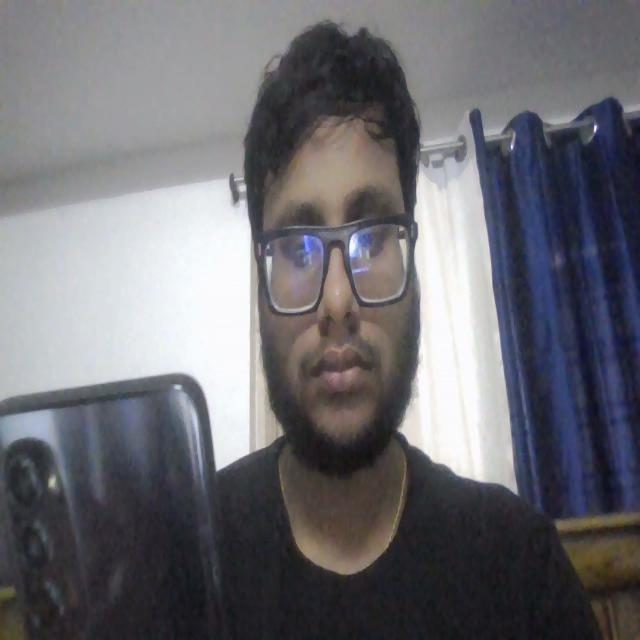phone: (0, 370, 224, 629)
